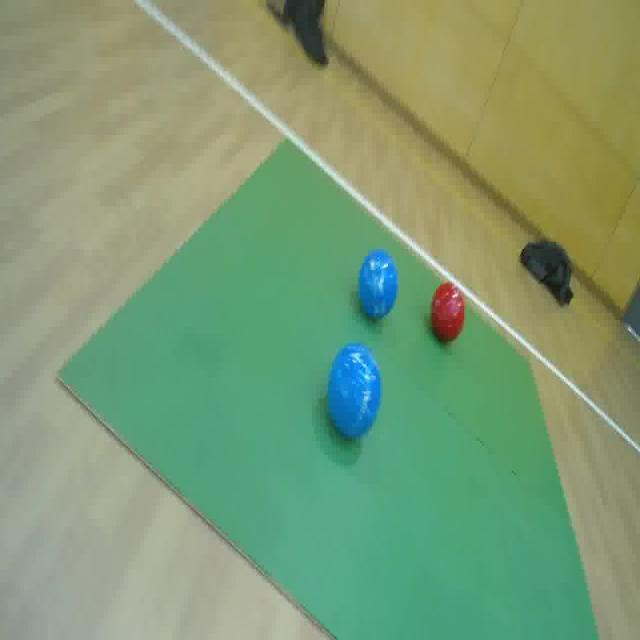blue_ball: (324, 343, 382, 439), (355, 249, 400, 320)
red_ball: (428, 280, 467, 345)
